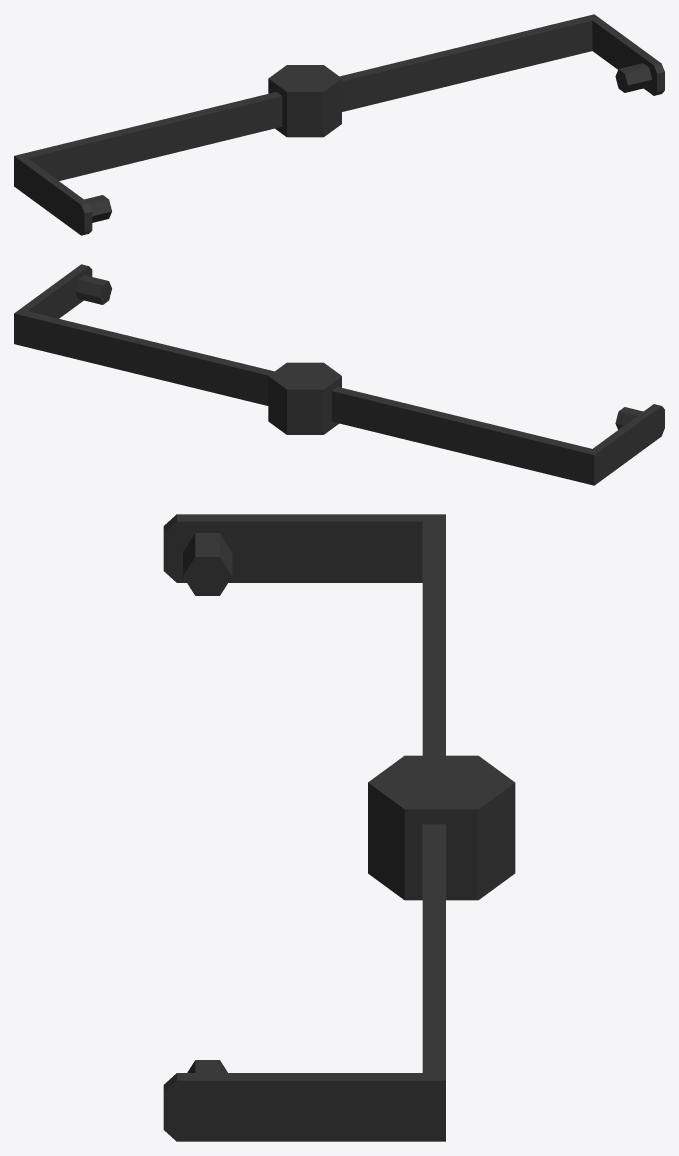
File: Tripod_Light_A_Base.obj
3 renders of one model, top to bottom at view 1: azimuth 30°, elevation 25°; view 2: azimuth 150°, elevation 25°; view 3: azimuth 270°, elevation 25°, orthographic. The views are drawn at different scales.
Visible parts, largest first — view 1: Tripod_Light_A_Base; view 2: Tripod_Light_A_Base; view 3: Tripod_Light_A_Base.
Boxes of the visible parts, box(x1,y1,x2,y2) form: Tripod_Light_A_Base: box(14, 14, 664, 235); Tripod_Light_A_Base: box(14, 264, 664, 485); Tripod_Light_A_Base: box(163, 514, 515, 1141).
Size of the model in its own units: 0.3679 by 0.0276 by 0.0965.
